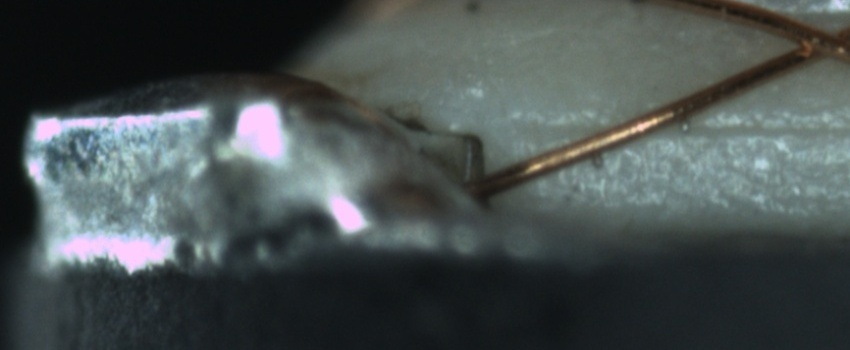CL: (773, 14, 848, 70)
DL: (525, 98, 850, 161)
